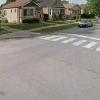Crosswalk: (38, 27, 100, 55)
